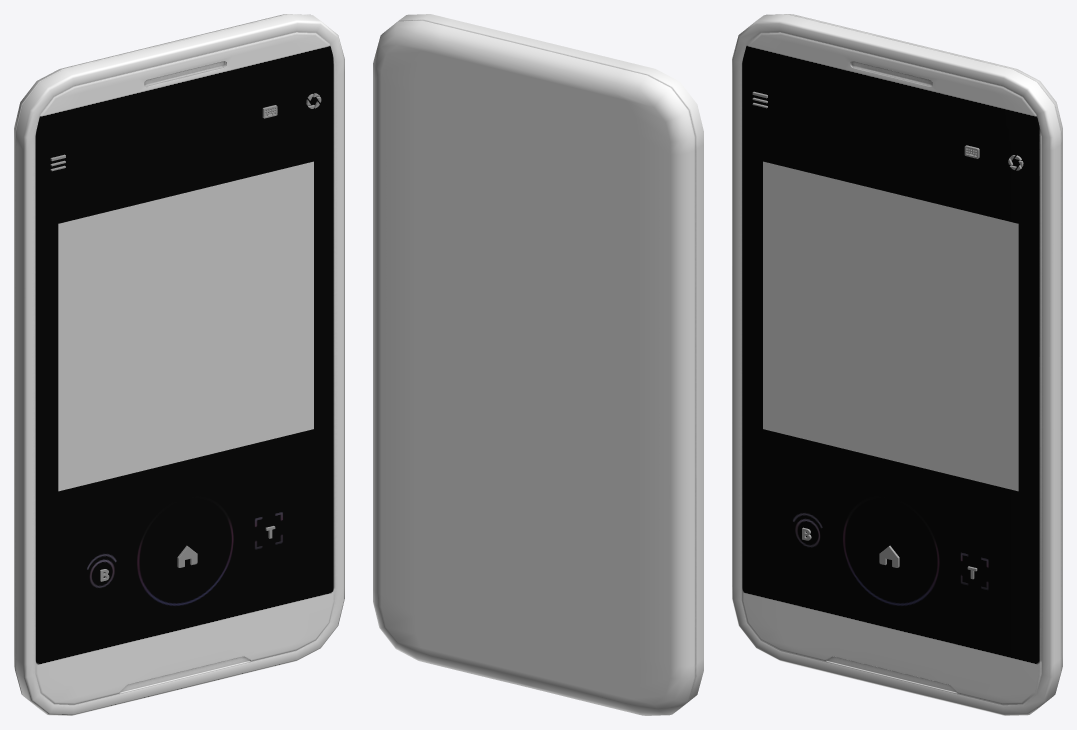
The model's file is MobileDevice.fbx.
3 views of the same model, side by side, from view 1: azimuth 30°, elevation 25°; view 2: azimuth 150°, elevation 25°; view 3: azimuth 330°, elevation 25° (orthographic).
Visible parts, largest first — view 1: MobileDevice_Geo, Dot_Grid_Geo; view 2: MobileDevice_Geo; view 3: MobileDevice_Geo, Dot_Grid_Geo.
Boxes of the visible parts, bbox=[...] form: MobileDevice_Geo: bbox=[14, 14, 344, 715]; Dot_Grid_Geo: bbox=[58, 161, 313, 491]; MobileDevice_Geo: bbox=[373, 14, 703, 715]; MobileDevice_Geo: bbox=[732, 14, 1062, 715]; Dot_Grid_Geo: bbox=[763, 161, 1018, 491].
Size of the model in its own units: 11.87 by 22.62 by 1.36.
